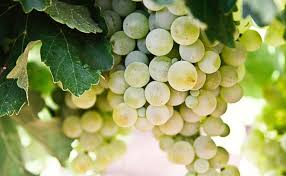Green grapes: (135, 19, 224, 164)
